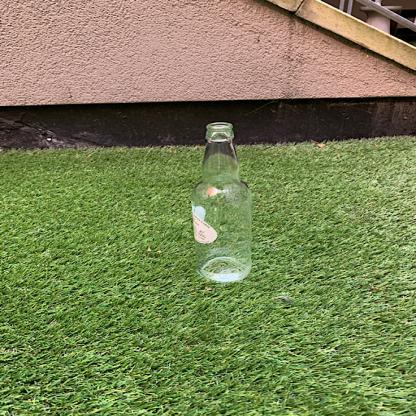trash: (187, 120, 257, 284)
